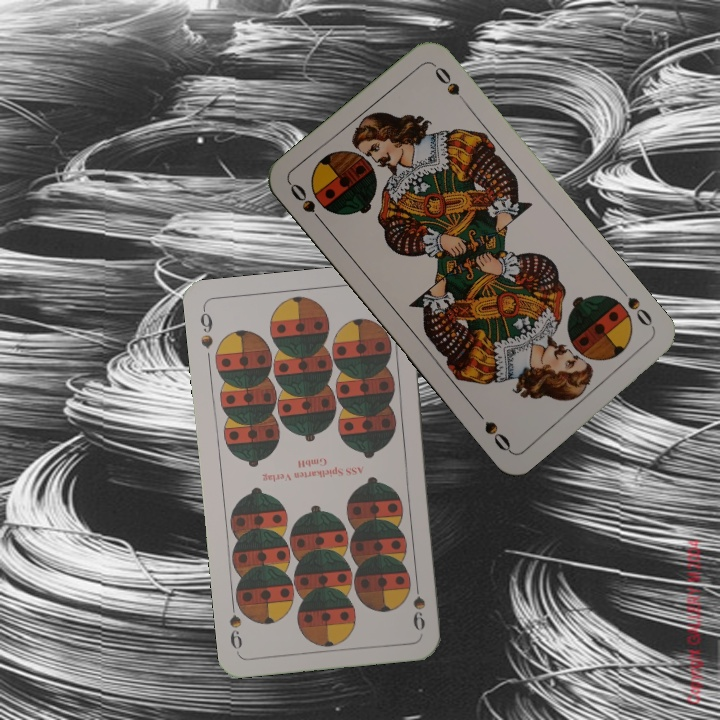S9: (408, 575, 428, 633), (196, 304, 216, 351)
SO: (285, 179, 329, 229), (623, 293, 659, 334)
